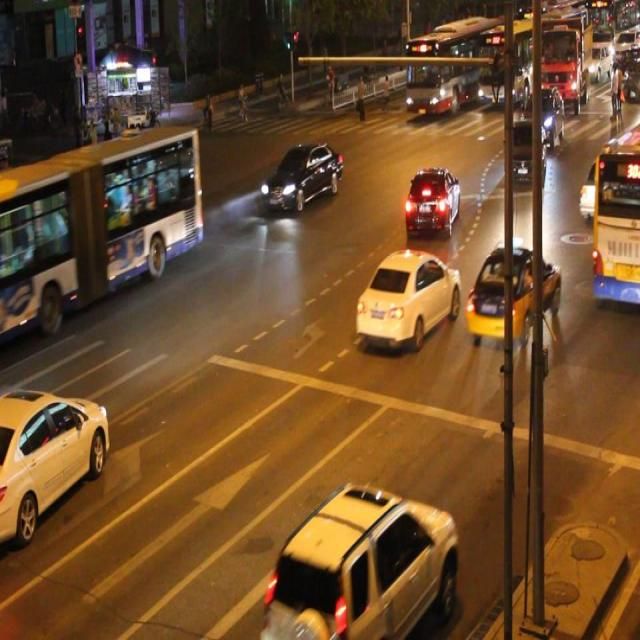car: (269, 480, 454, 640), (1, 387, 110, 536), (355, 246, 462, 348), (466, 245, 559, 340), (261, 142, 342, 212), (404, 164, 460, 239), (503, 120, 544, 186)
van: (1, 126, 197, 332), (588, 115, 640, 307)
